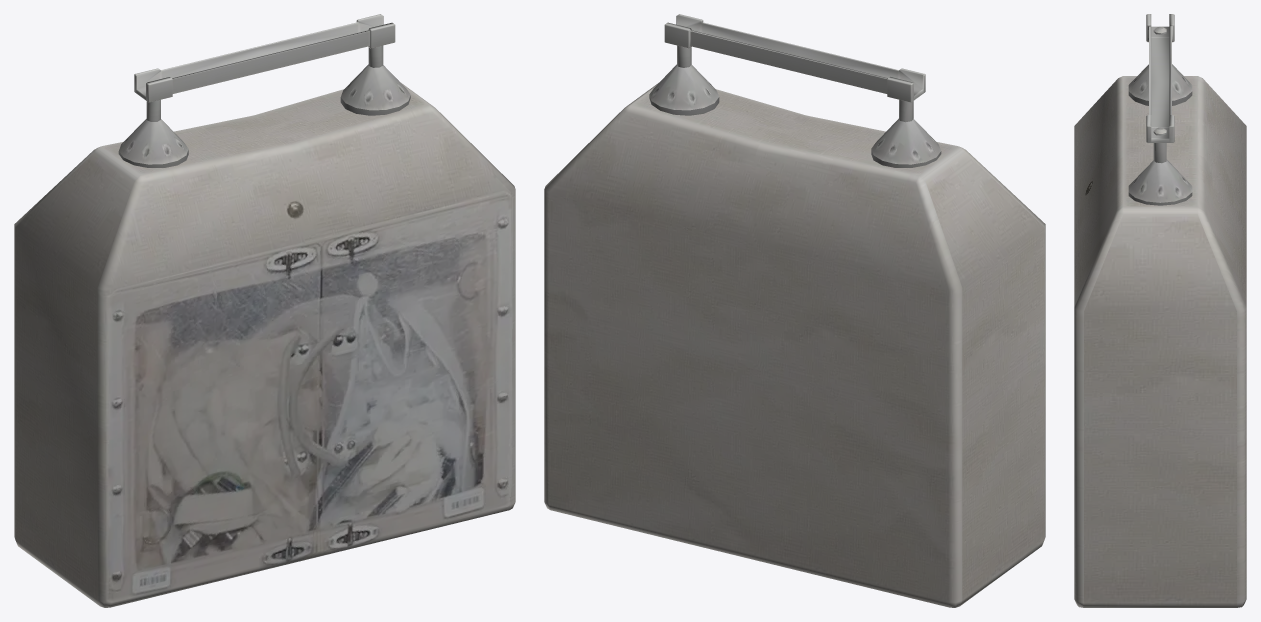
File: crew-lock-bag.glb
3 views of the same model, side by side, from view 1: azimuth 30°, elevation 25°; view 2: azimuth 150°, elevation 25°; view 3: azimuth 270°, elevation 25° (orthographic). The views are drawn at different scales.
Visible parts, largest first — view 1: crewlockba; view 2: crewlockba; view 3: crewlockba.
Part boxes in pixels (<box>): crewlockba: <box>14,14,515,607</box>; crewlockba: <box>544,14,1045,607</box>; crewlockba: <box>1074,14,1246,607</box>.
Size of the model in its own units: 14.05 by 15.46 by 5.41.
1 material, 1 textured.
